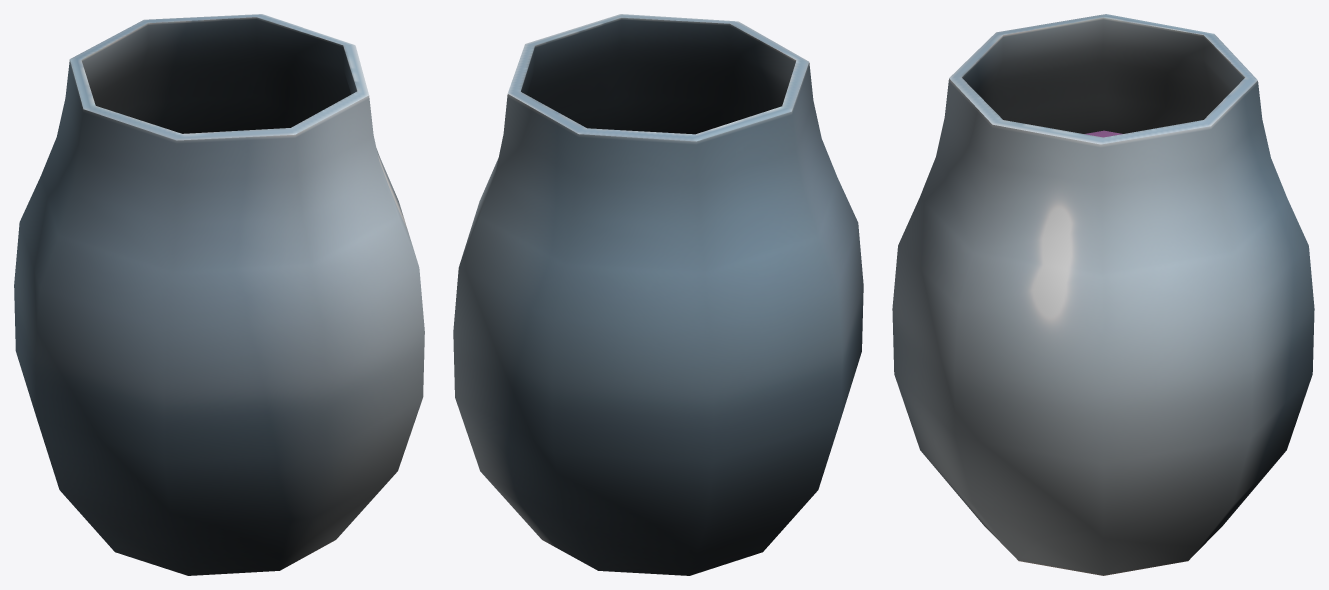
Rendered from Seerpsenextrakt_Cocktail.glb.
3 renders of one model, left to right at view 1: azimuth 30°, elevation 25°; view 2: azimuth 150°, elevation 25°; view 3: azimuth 270°, elevation 25°, orthographic.
Visible parts, largest first — view 1: CocktailGlass.004; view 2: CocktailGlass.004; view 3: CocktailGlass.004.
Part boxes in pixels (bbox=[...]): CocktailGlass.004: bbox=[14, 14, 424, 575]; CocktailGlass.004: bbox=[453, 14, 863, 575]; CocktailGlass.004: bbox=[892, 14, 1314, 575].
Bounding box in the file's own units: 0.0606 × 0.071 × 0.0606.
2 materials, 2 textured.
